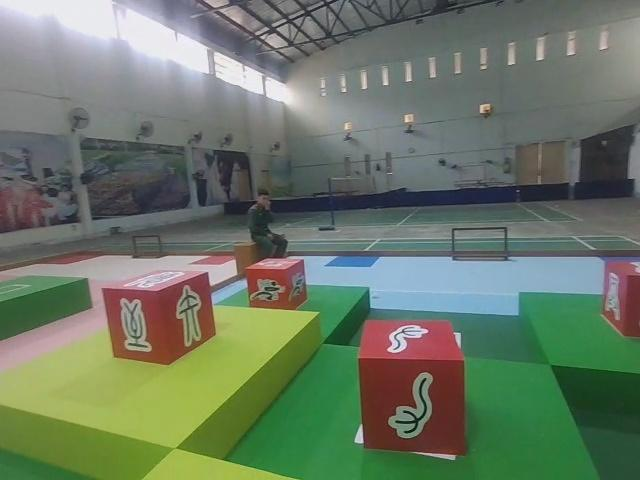R1: (242, 255, 310, 313)
R2 Fake: (98, 265, 218, 367)
R2 Real: (355, 315, 470, 459)
